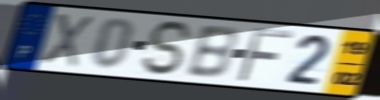0: (90, 16, 137, 72)
2: (281, 33, 332, 87)
B: (183, 25, 239, 81)
F: (234, 26, 296, 84)
S: (141, 19, 196, 78)
X: (39, 11, 95, 69)
